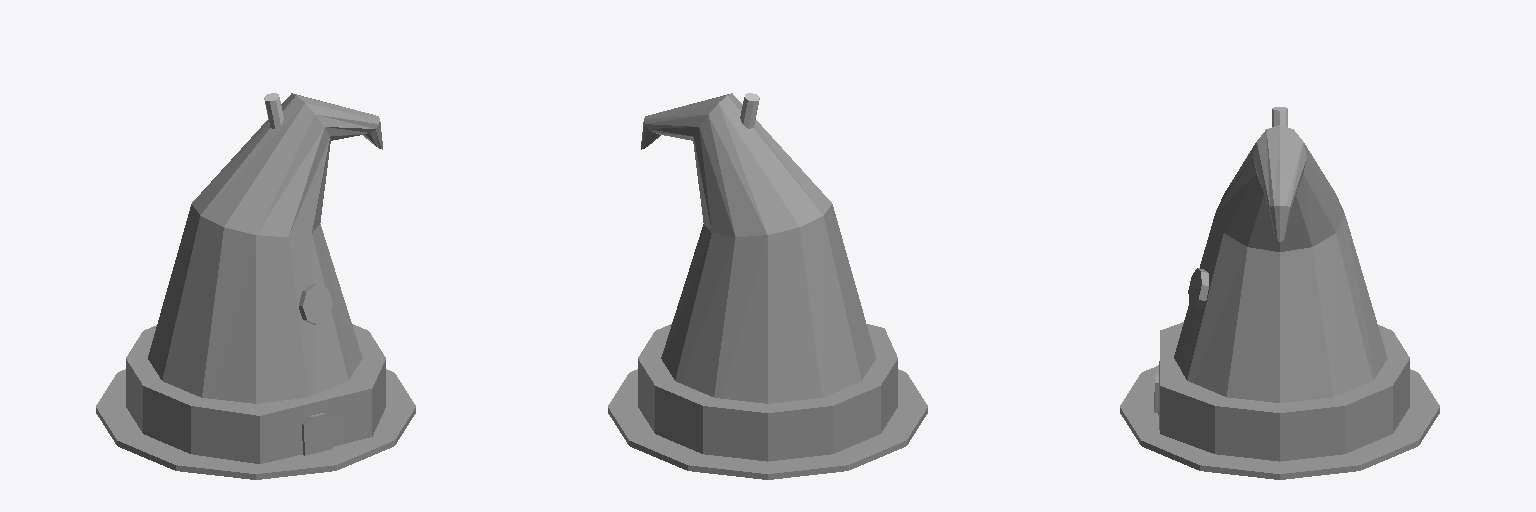
File: WizardHatHouse2.obj
The picture shows the model from 3 angles: view 1: azimuth 30°, elevation 25°; view 2: azimuth 150°, elevation 25°; view 3: azimuth 270°, elevation 25°; orthographic projection.
Parts seen in each view (by area): view 1: Cylinder, Cylinder.001; view 2: Cylinder; view 3: Cylinder, Cylinder.001.
Boxes of the visible parts, x1,y1,x2,y2 form: Cylinder: [96, 93, 415, 479]; Cylinder.001: [299, 284, 332, 324]; Cylinder: [608, 93, 927, 479]; Cylinder: [1120, 125, 1439, 479]; Cylinder.001: [1188, 268, 1208, 308].
Size of the model in its own units: 4.43 by 4.77 by 4.43.